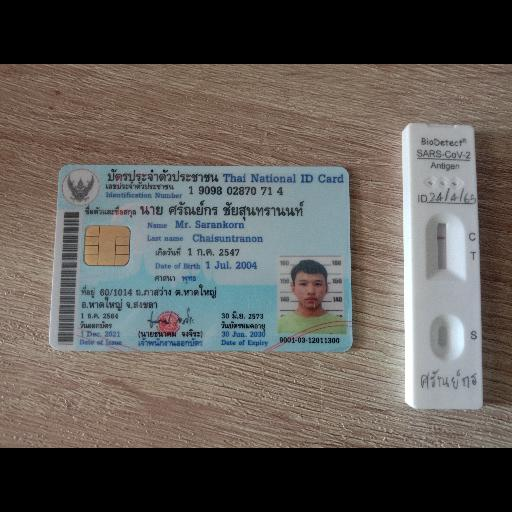Neg: (402, 124, 480, 412)
